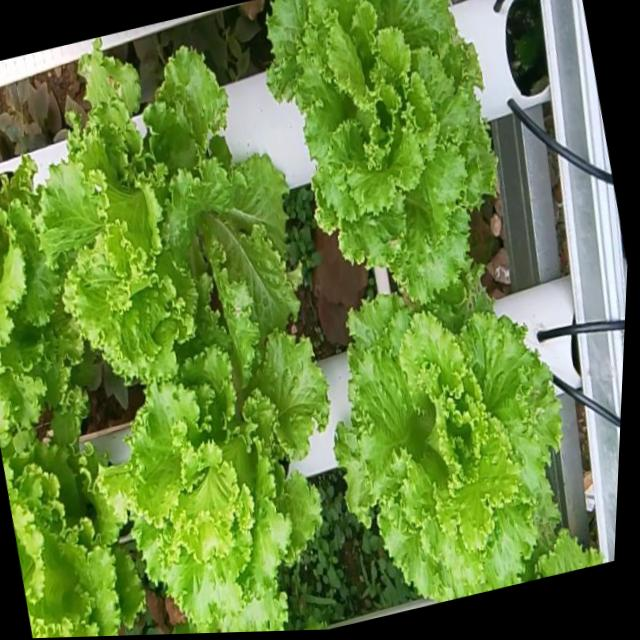Mature: (41, 45, 302, 384), (332, 275, 600, 601), (265, 0, 494, 303), (99, 331, 328, 633)
